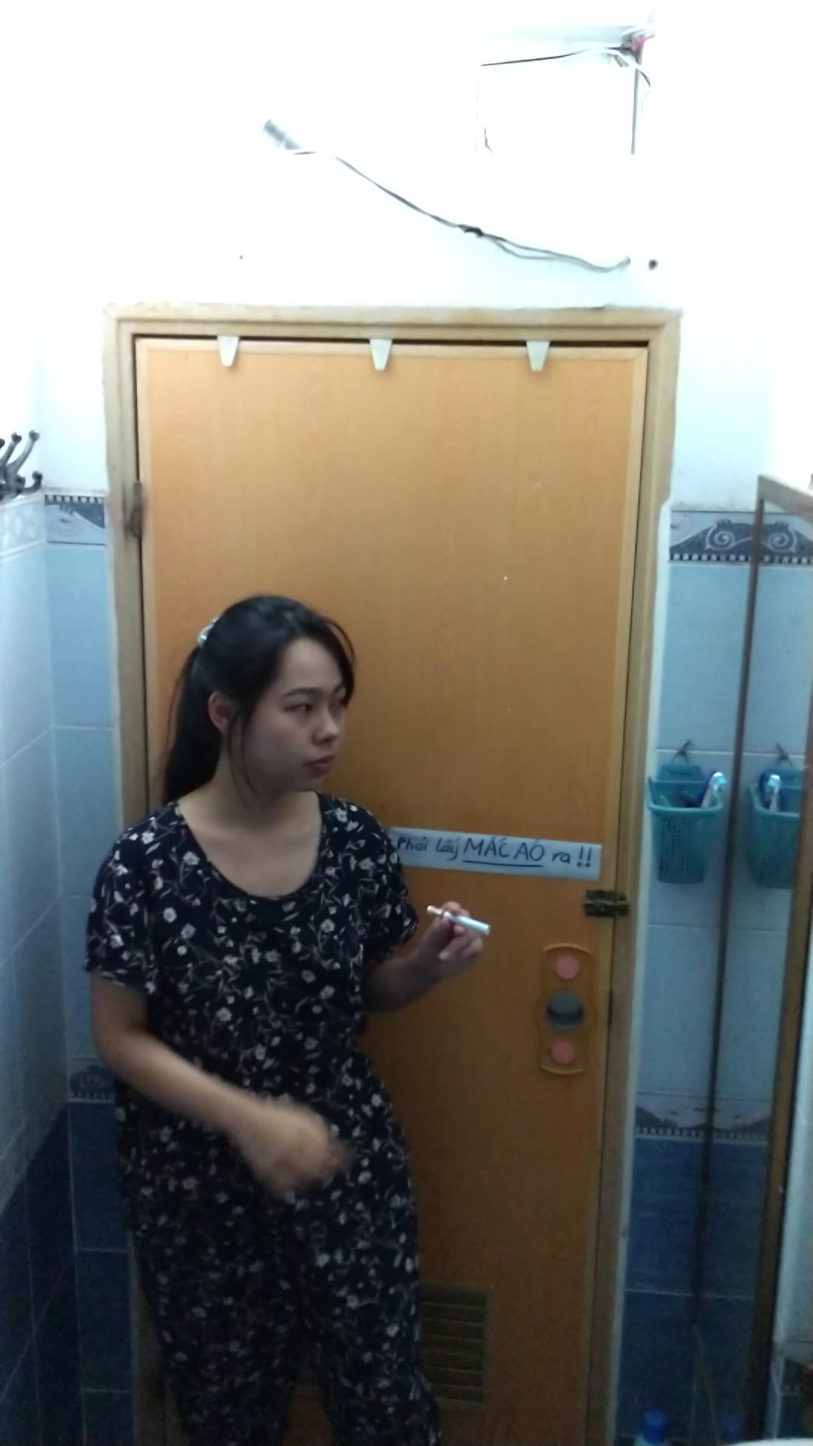cigarette: (446, 911, 493, 938)
person: (80, 587, 491, 1441)
